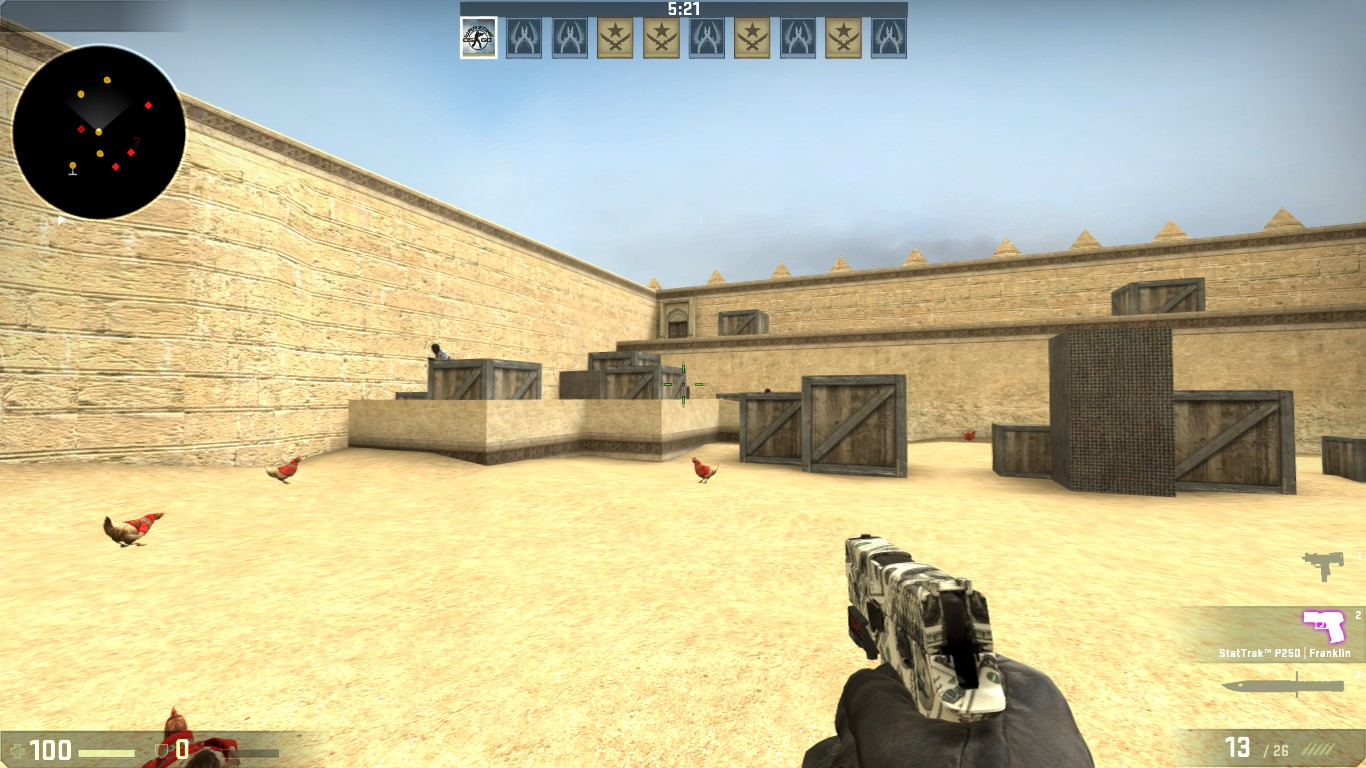th: (429, 343, 444, 359)
